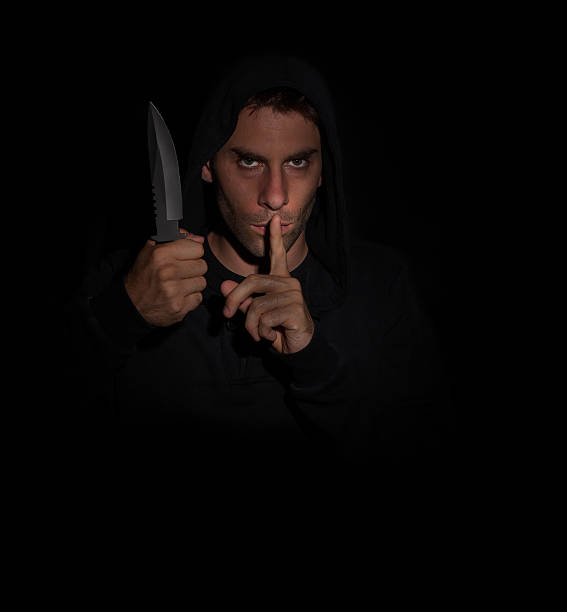knife: (146, 96, 187, 243)
